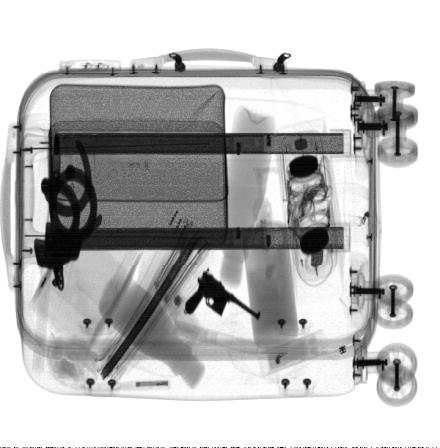Bullet: (51, 129, 61, 200)
Gun: (184, 272, 261, 323)
HandCuffs: (40, 138, 103, 292)
